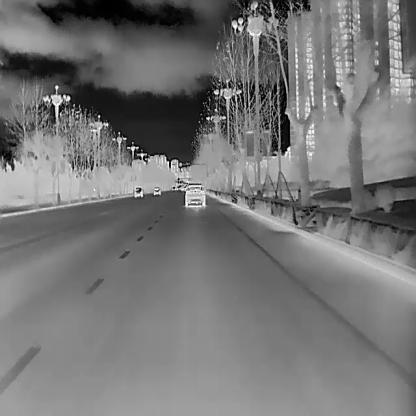car: (185, 182, 206, 206), (133, 186, 143, 198), (153, 186, 161, 195)
